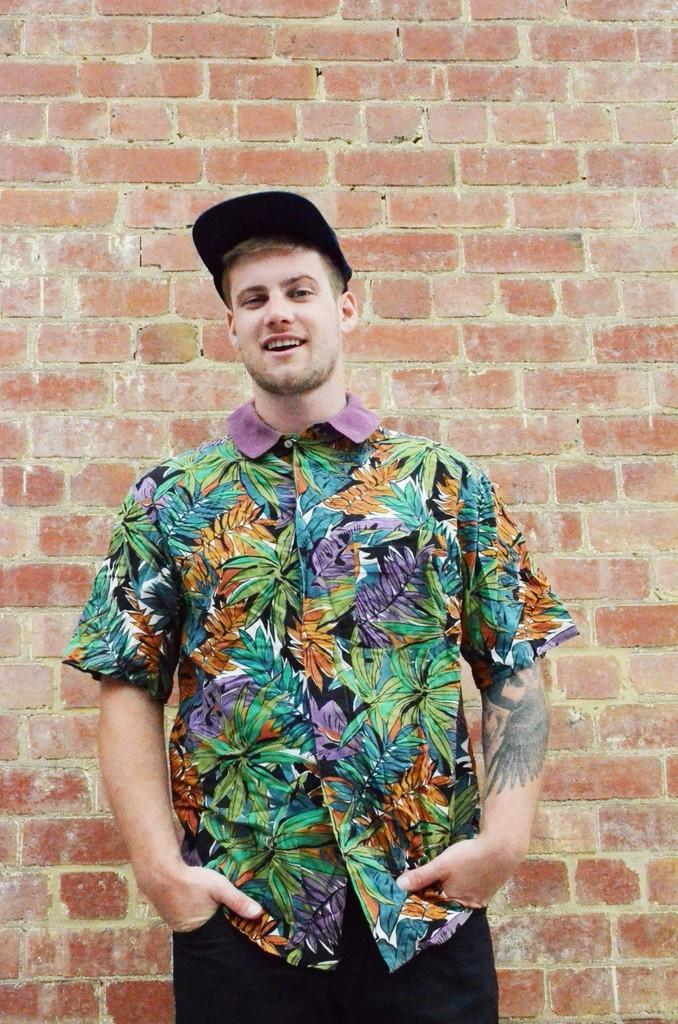Hat: (188, 187, 354, 308)
